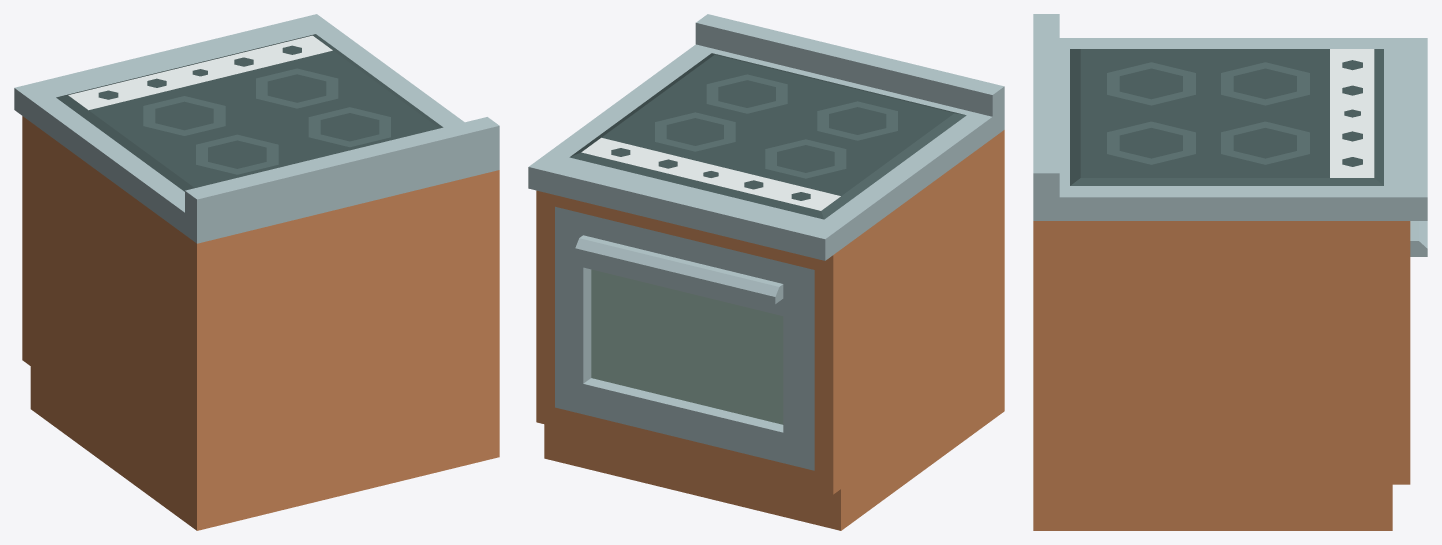
File: kitchenStoveElectric.obj
The picture shows the model from 3 angles, left to right: view 1: azimuth 30°, elevation 25°; view 2: azimuth 150°, elevation 25°; view 3: azimuth 270°, elevation 25°; orthographic projection. The views are drawn at different scales.
Parts seen in each view (by area): view 1: kitchenStoveElectric; view 2: kitchenStoveElectric; view 3: kitchenStoveElectric.
Boxes of the visible parts, x1=… form: kitchenStoveElectric: x1=14, y1=14, x2=499, y2=530; kitchenStoveElectric: x1=528, y1=14, x2=1004, y2=530; kitchenStoveElectric: x1=1033, y1=14, x2=1427, y2=530.
Size of the model in its own units: 0.43 by 0.45 by 0.45.
